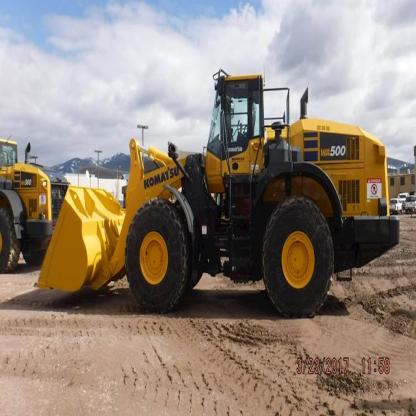bull_dozer/loader/grader: (36, 58, 404, 326)
